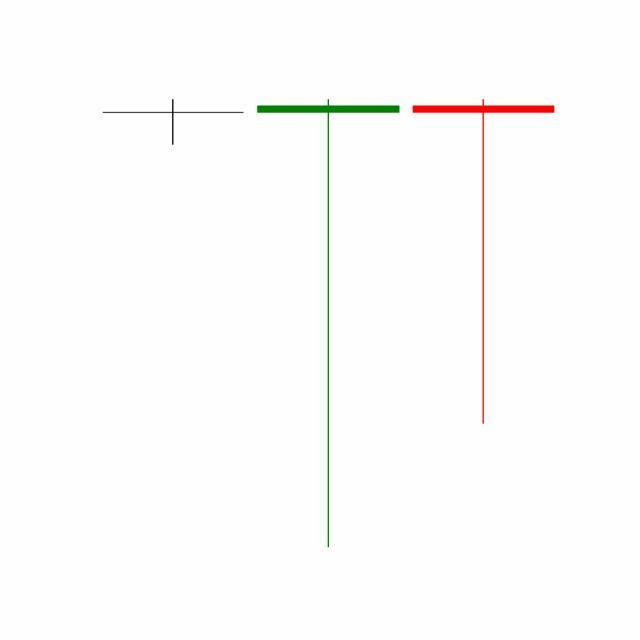Dragonfly Doji: (406, 96, 562, 428)
